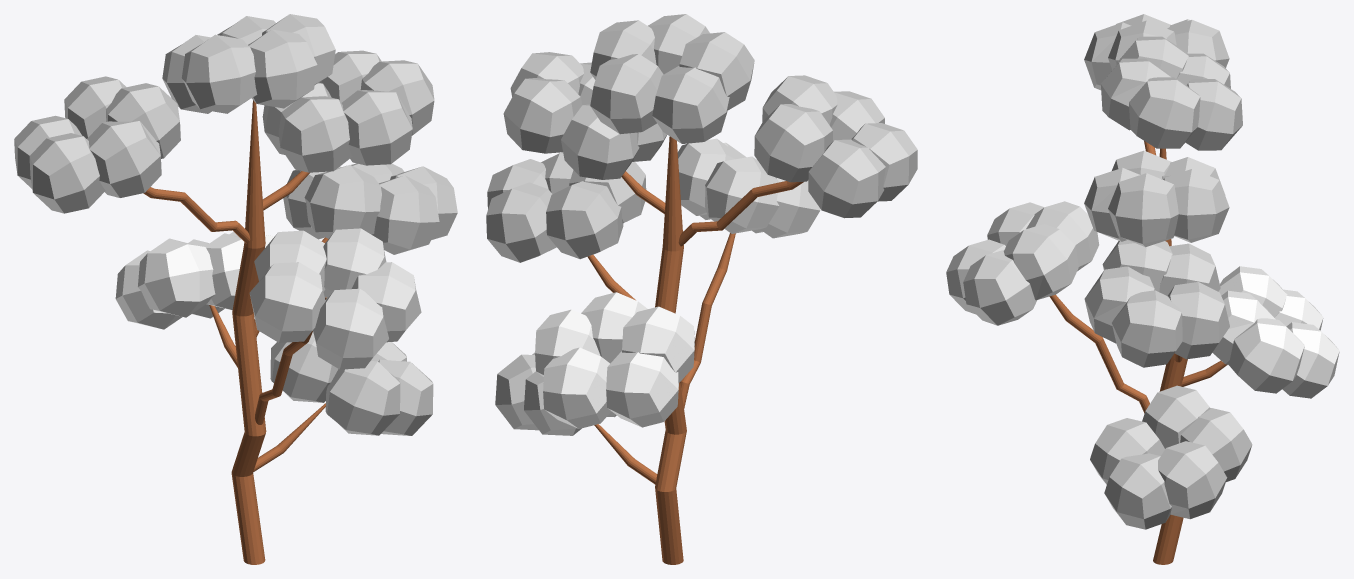
Rendered from coton2.fbx.
3 views of the same model, side by side, from view 1: azimuth 30°, elevation 25°; view 2: azimuth 150°, elevation 25°; view 3: azimuth 270°, elevation 25° (orthographic). The views are drawn at different scales.
Visible parts, largest first — view 1: Coton.004, Coton.001, Coton.002, Coton, Cylinder, Coton.006, Coton.005, Coton.003; view 2: Coton.003, Coton, Coton.001, Coton.006, Coton.002, Cylinder, Coton.004, Coton.005; view 3: Coton.005, Coton.006, Coton.004, Coton, Coton.003, Coton.002, Coton.001, Cylinder.
Part boxes in pixels (bbox=[...]): Coton.004: bbox=[249, 228, 421, 369]; Coton.001: bbox=[14, 76, 180, 213]; Coton.002: bbox=[262, 50, 434, 172]; Coton: bbox=[162, 14, 335, 113]; Cylinder: bbox=[143, 100, 328, 564]; Coton.006: bbox=[283, 163, 457, 254]; Coton.005: bbox=[270, 332, 433, 435]; Coton.003: bbox=[115, 231, 274, 329]; Coton.003: bbox=[535, 292, 694, 428]; Coton: bbox=[590, 14, 754, 143]; Coton.001: bbox=[754, 75, 917, 218]; Coton.006: bbox=[486, 152, 646, 262]; Coton.002: bbox=[503, 52, 666, 179]; Cylinder: bbox=[587, 136, 803, 564]; Coton.004: bbox=[677, 138, 820, 238]; Coton.005: bbox=[495, 352, 616, 435]; Coton.005: bbox=[1090, 385, 1252, 529]; Coton.006: bbox=[1084, 240, 1229, 367]; Coton.004: bbox=[946, 201, 1099, 325]; Coton: bbox=[1101, 36, 1242, 150]; Coton.003: bbox=[1212, 266, 1339, 398]; Coton.002: bbox=[1084, 150, 1229, 247]; Coton.001: bbox=[1084, 14, 1229, 90]; Cylinder: bbox=[1049, 141, 1227, 564].
Size of the model in its own units: 336 by 408 by 289.
